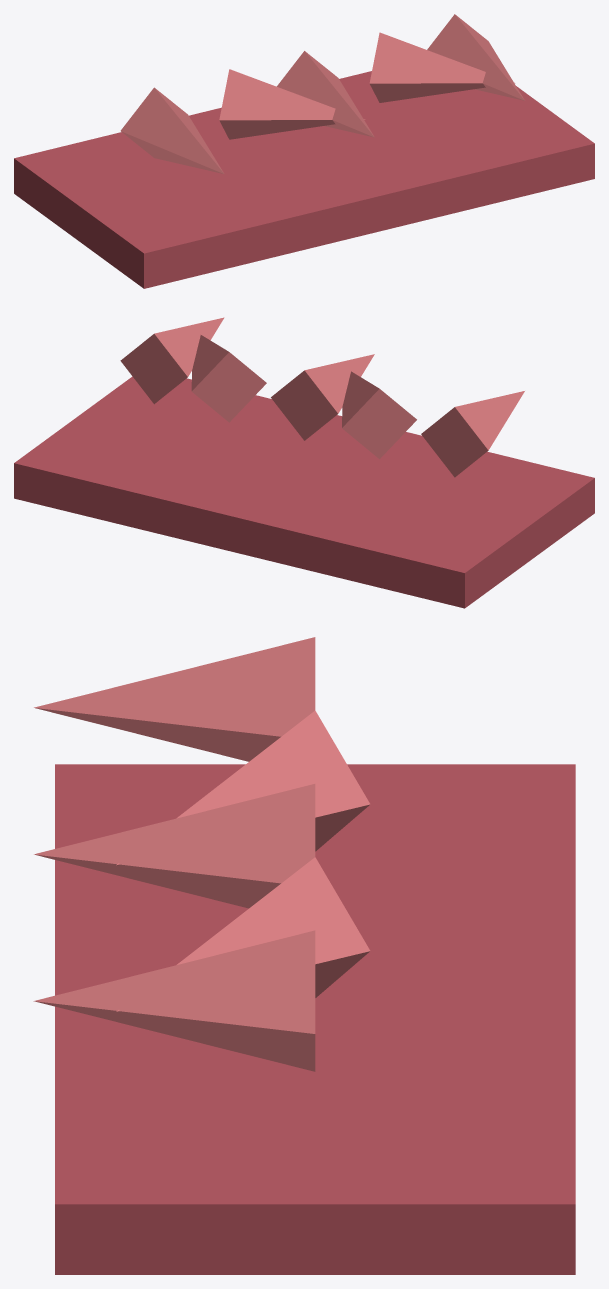
The model's file is B06_HAZARD_SPIKES_PROGRAM.glb.
3 renders of one model, top to bottom at view 1: azimuth 30°, elevation 25°; view 2: azimuth 150°, elevation 25°; view 3: azimuth 270°, elevation 25°, orthographic. The views are drawn at different scales.
Visible parts, largest first — view 1: HazardBase, Spike2, Spike4, Spike1, Spike3, Spike5; view 2: HazardBase, Spike1, Spike3, Spike5, Spike4, Spike2; view 3: HazardBase, Spike5, Spike1, Spike3, Spike2, Spike4.
Part boxes in pixels (x1,y1,x2,y2): HazardBase: (14, 71, 594, 288); Spike2: (219, 69, 365, 139); Spike4: (369, 32, 515, 102); Spike1: (120, 87, 224, 174); Spike3: (277, 51, 374, 137); Spike5: (427, 14, 524, 100); HazardBase: (14, 376, 594, 608); Spike1: (421, 391, 524, 477); Spike3: (271, 354, 374, 440); Spike5: (120, 317, 224, 404); Spike4: (191, 335, 266, 422); Spike2: (342, 371, 416, 459); HazardBase: (55, 764, 575, 1274); Spike5: (33, 930, 315, 1071); Spike1: (34, 637, 315, 761); Spike3: (34, 784, 315, 908); Spike2: (116, 710, 370, 865); Spike4: (116, 857, 370, 1011).
Bounding box in the file's own units: 2.4 × 0.69 × 1.25.
